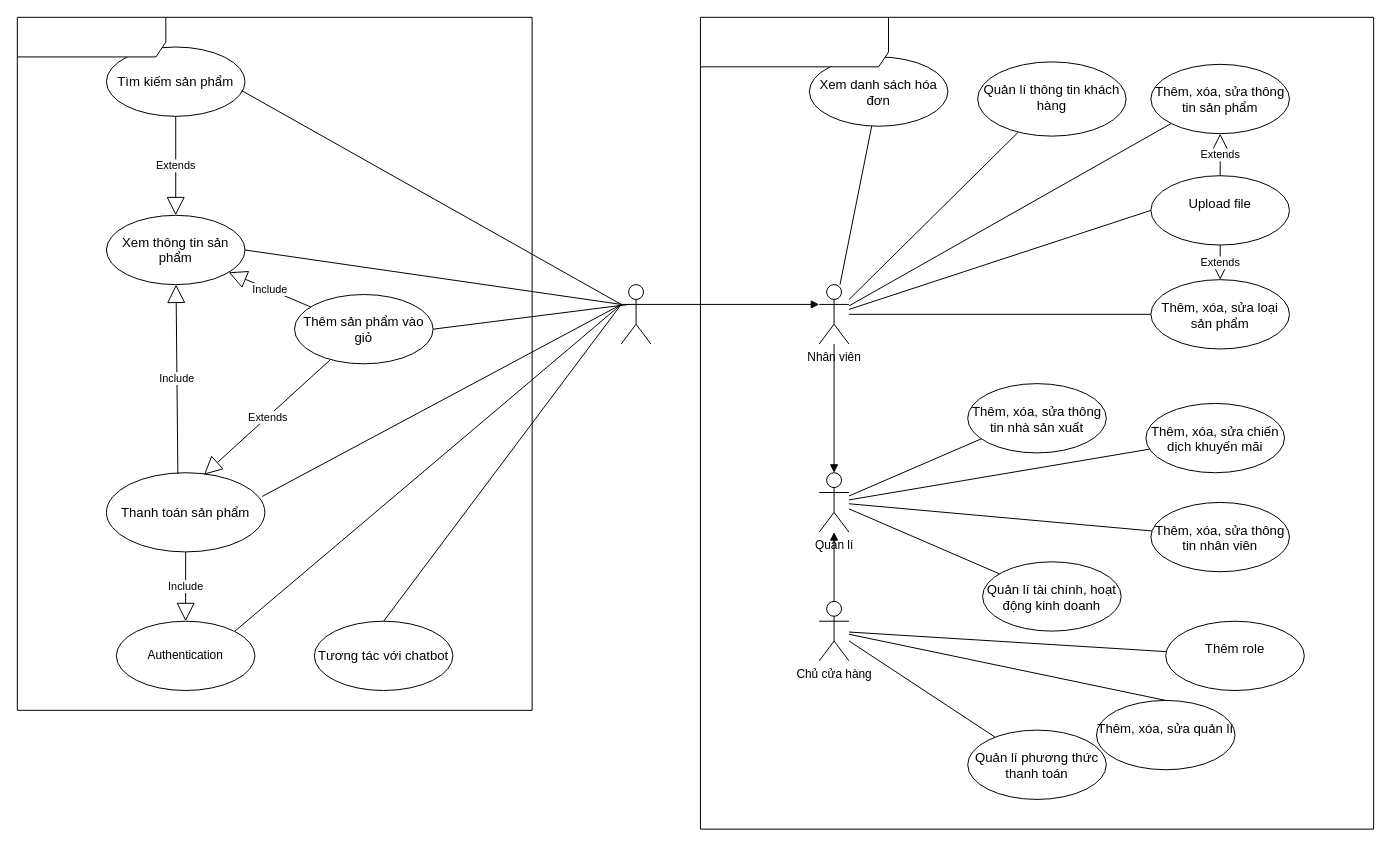
Some shapes in this 1391 by 846 pixel diagram are drawn without their labels. The box of each missing label's shape, as (x1, y1, x2, y2) in pixels:
Khách hàng: (620, 284, 651, 344)
Trang khách hàng: (16, 16, 532, 710)
Trang quản lí: (699, 16, 1374, 829)
